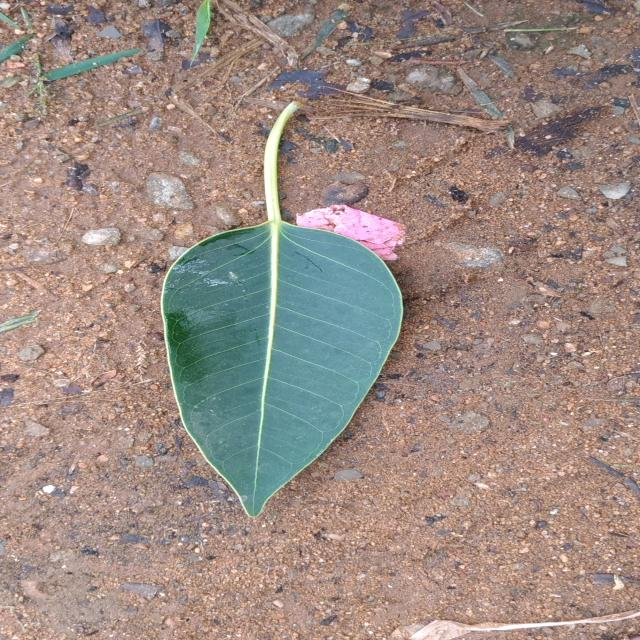camphor: (162, 220, 402, 516)
